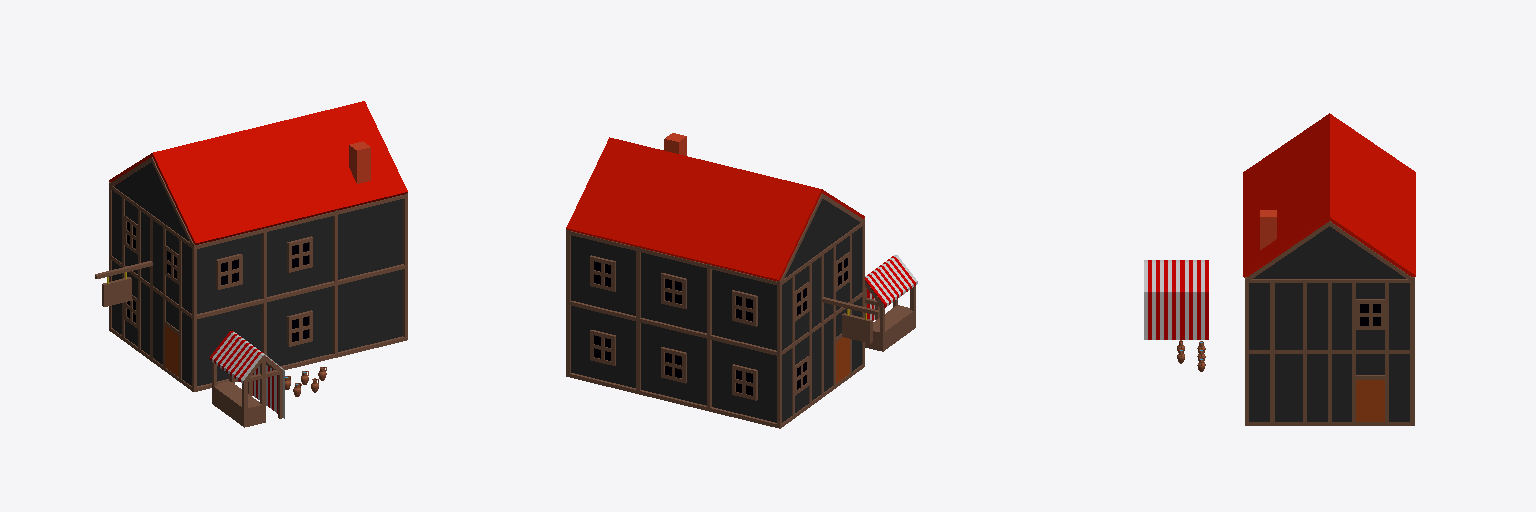
Rendered from timberframedpotter.obj.
The picture shows the model from 3 angles: view 1: azimuth 30°, elevation 25°; view 2: azimuth 150°, elevation 25°; view 3: azimuth 270°, elevation 25°; orthographic projection.
Parts seen in each view (by area): view 1: Cube.005, Cube.007_Cube.011, Cube.011_Cube.015, Cube.018_Cube.016, Cube.056_Cube.081, Cube.001_Cube.058, Cube.013_Cube.080, Cube.006_Cube.010, Cube.055_Cube.059, Cube.026_Cube.019, Cube.073_Cube.078, Cube.012_Cube.017 (+5 smaller); view 2: Cube.005, Cube.007_Cube.011, Cube.022_Cube.025, Cube.023_Cube.026, Cube.021_Cube.024, Cube.015_Cube.020, Cube.019_Cube.022, Cube.017_Cube.021, Cube.014_Cube.018, Cube.008, Cube.020_Cube.023, Cube.073_Cube.078 (+6 smaller); view 3: Cube.005, Cube.007_Cube.011, Cube.147_Cube.153, Cube.003, Cube.033, Cube.027, Cube.047_Cube.049, Cube.031, Cube.016_Cube.013, Cube.006_Cube.010, Cube.032, Cube.012_Cube.017 (+4 smaller).
Part boxes in pixels (bbox=[...]): Cube.005: bbox=[112, 162, 402, 385]; Cube.007_Cube.011: bbox=[109, 101, 407, 244]; Cube.011_Cube.015: bbox=[195, 264, 404, 319]; Cube.018_Cube.016: bbox=[195, 195, 406, 249]; Cube.056_Cube.081: bbox=[216, 254, 242, 289]; Cube.001_Cube.058: bbox=[287, 310, 312, 346]; Cube.013_Cube.080: bbox=[287, 236, 312, 272]; Cube.006_Cube.010: bbox=[349, 141, 370, 183]; Cube.055_Cube.059: bbox=[195, 336, 406, 391]; Cube.026_Cube.019: bbox=[192, 243, 196, 391]; Cube.073_Cube.078: bbox=[102, 277, 131, 306]; Cube.012_Cube.017: bbox=[403, 193, 407, 339]; Cube.005: bbox=[571, 199, 861, 422]; Cube.007_Cube.011: bbox=[566, 137, 864, 280]; Cube.022_Cube.025: bbox=[567, 301, 778, 355]; Cube.023_Cube.026: bbox=[567, 373, 776, 427]; Cube.021_Cube.024: bbox=[570, 231, 776, 284]; Cube.015_Cube.020: bbox=[732, 290, 757, 326]; Cube.019_Cube.022: bbox=[661, 347, 686, 383]; Cube.017_Cube.021: bbox=[590, 330, 615, 365]; Cube.014_Cube.018: bbox=[661, 273, 686, 308]; Cube.008: bbox=[590, 255, 615, 291]; Cube.020_Cube.023: bbox=[732, 364, 757, 400]; Cube.073_Cube.078: bbox=[842, 313, 872, 343]; Cube.005: bbox=[1249, 226, 1409, 421]; Cube.007_Cube.011: bbox=[1243, 113, 1415, 277]; Cube.147_Cube.153: bbox=[1144, 292, 1208, 339]; Cube.003: bbox=[1356, 380, 1384, 421]; Cube.033: bbox=[1356, 299, 1384, 329]; Cube.027: bbox=[1410, 277, 1414, 425]; Cube.047_Cube.049: bbox=[1270, 279, 1274, 423]; Cube.031: bbox=[1248, 422, 1410, 425]; Cube.016_Cube.013: bbox=[1248, 350, 1410, 353]; Cube.006_Cube.010: bbox=[1260, 210, 1276, 249]; Cube.032: bbox=[1248, 279, 1410, 282]; Cube.012_Cube.017: bbox=[1245, 277, 1248, 425].
Size of the model in its own units: 15.3 by 11.25 by 13.34.